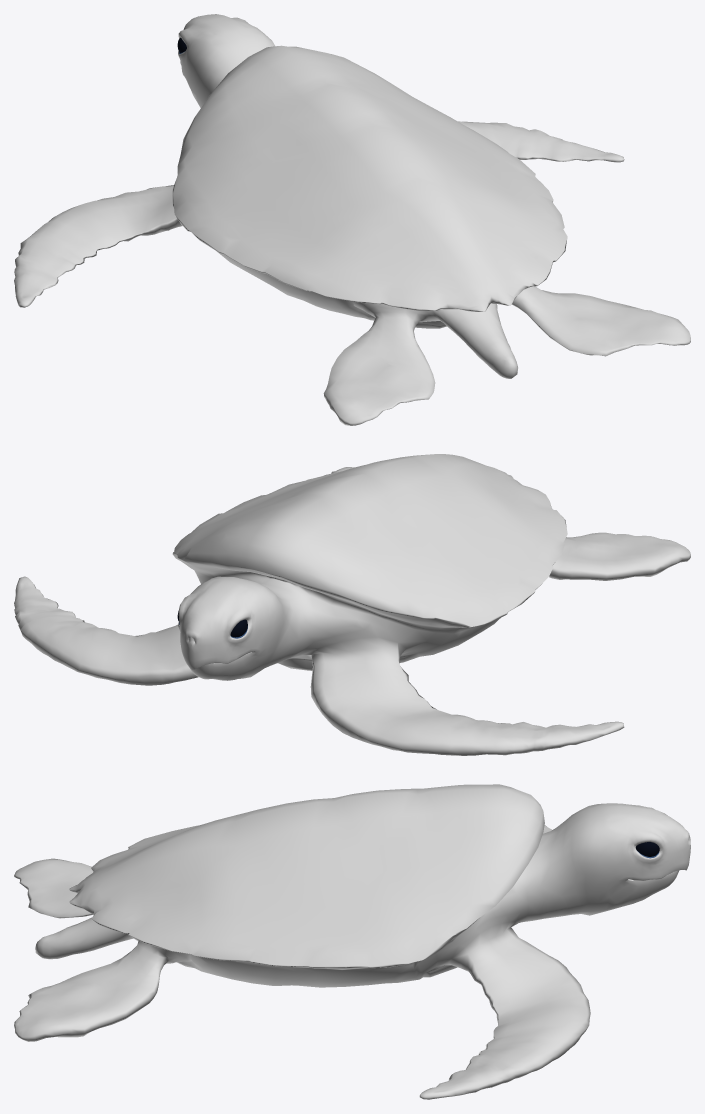
Rendered from sea-turtle.fbx.
3 views of the same model, one above another, from view 1: azimuth 30°, elevation 25°; view 2: azimuth 150°, elevation 25°; view 3: azimuth 270°, elevation 25° (orthographic).
Parts seen in each view (by area): view 1: sea_turtle_mat_turtle_0; view 2: sea_turtle_mat_turtle_0; view 3: sea_turtle_mat_turtle_0.
Part boxes in pixels (box(x1,y1,x2,y2)): sea_turtle_mat_turtle_0: box(14, 14, 690, 425); sea_turtle_mat_turtle_0: box(14, 454, 690, 755); sea_turtle_mat_turtle_0: box(14, 784, 690, 1099).
Size of the model in its own units: 466 by 124 by 447.
